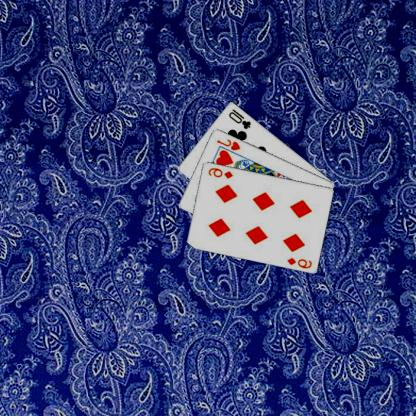10C: (228, 106, 254, 130)
6D: (207, 164, 236, 180), (286, 254, 314, 270)
JH: (216, 136, 244, 152)
